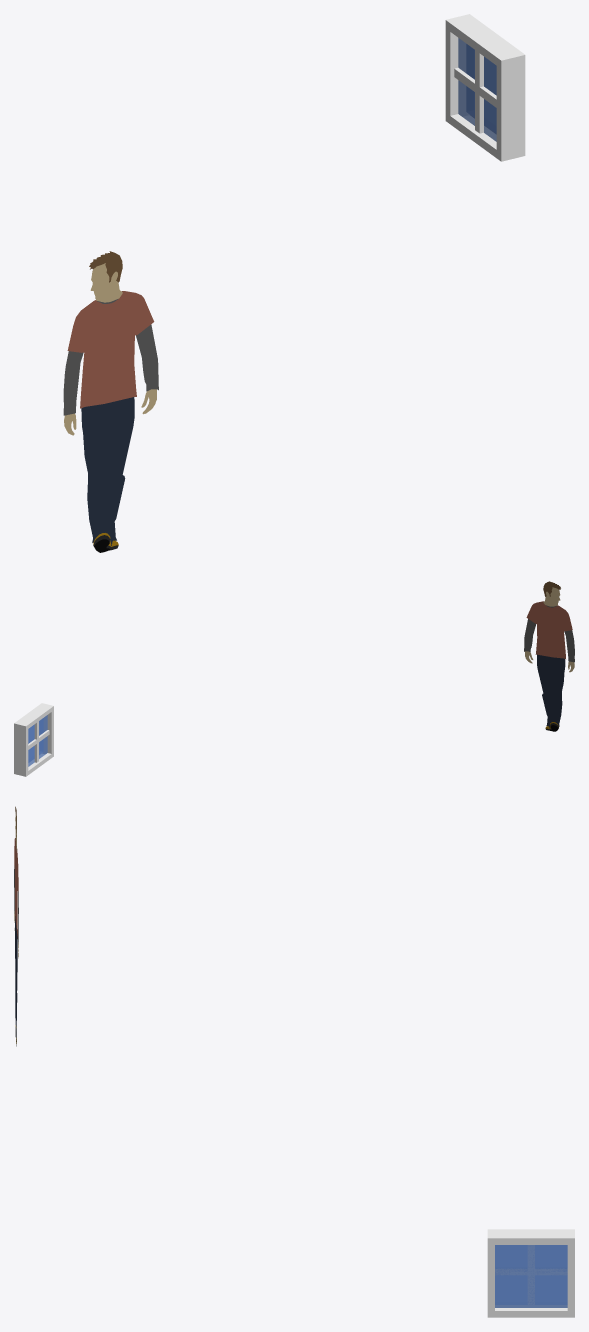
File: 2x2window.dae
The picture shows the model from 3 angles, top to bottom: view 1: azimuth 30°, elevation 25°; view 2: azimuth 150°, elevation 25°; view 3: azimuth 270°, elevation 25°; orthographic projection. The views are drawn at different scales.
Visible parts, largest first — view 1: Bryce (×5), SketchUp (×4); view 2: Bryce (×3), SketchUp (×3); view 3: SketchUp (×4).
Boxes of the visible parts, left/top/right/bottom form: Bryce (×5): left=63, top=263, right=158, bottom=545; SketchUp (×4): left=445, top=14, right=525, bottom=161; Bryce (×3): left=524, top=601, right=572, bottom=728; SketchUp (×3): left=14, top=703, right=53, bottom=776; SketchUp (×4): left=487, top=1229, right=574, bottom=1317.
Size of the model in its own units: 190 by 154 by 71.19.
